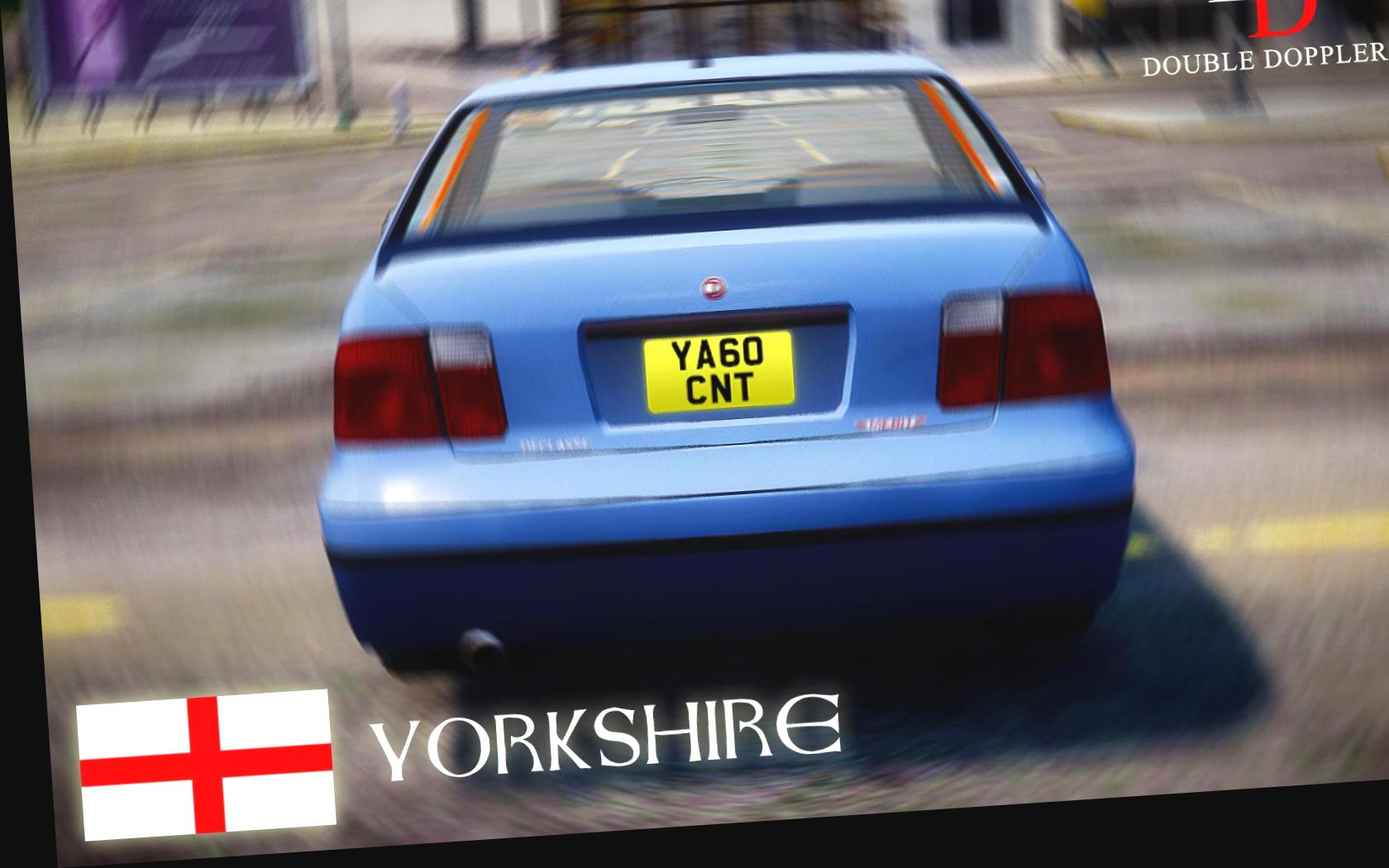License_Plate: (629, 310, 810, 431)
